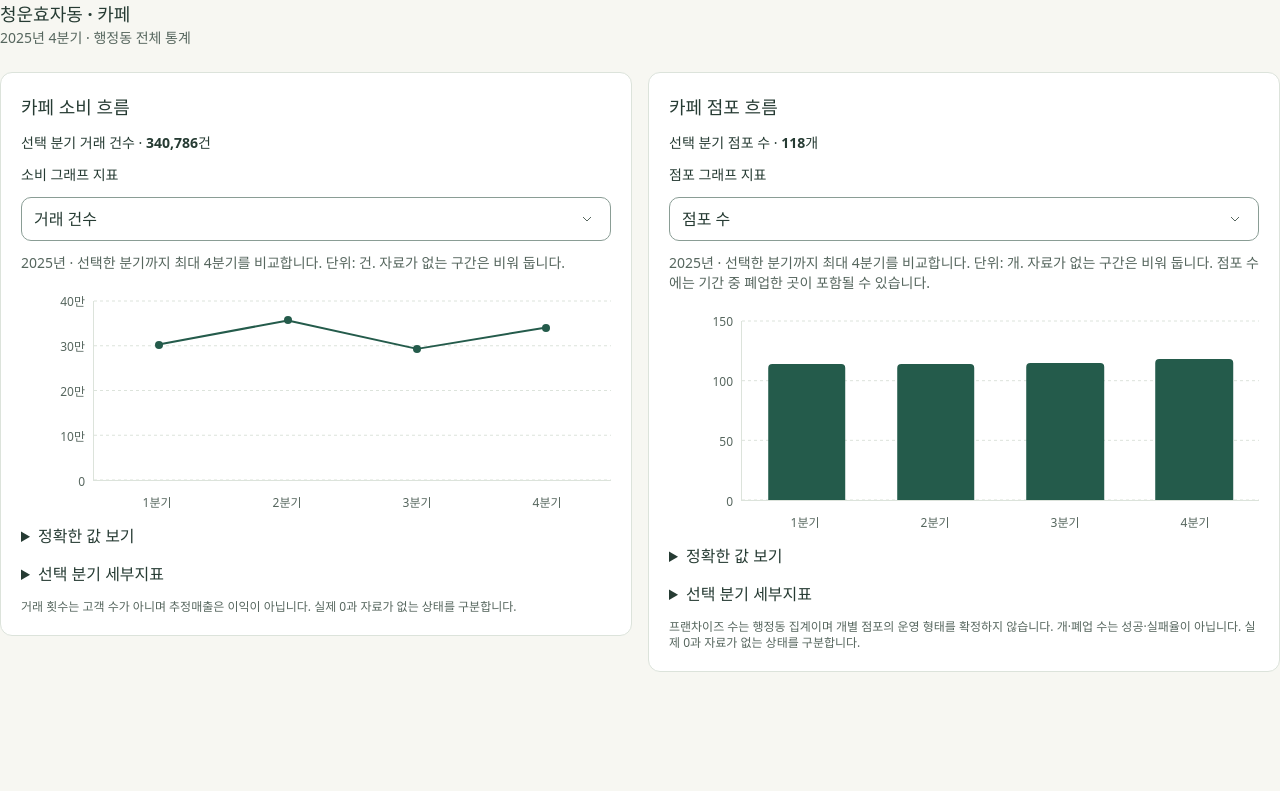
shows real value axes and changes units while preserving exact table values
Expected: the element named "세로축 눈금, 단위 건" is shown, x1=60 y1=292 x2=85 y2=489
Select "추정매출" in the dropdown labelled "소비 그래프 지표": (316, 219) x1=21 y1=197 x2=611 y2=241
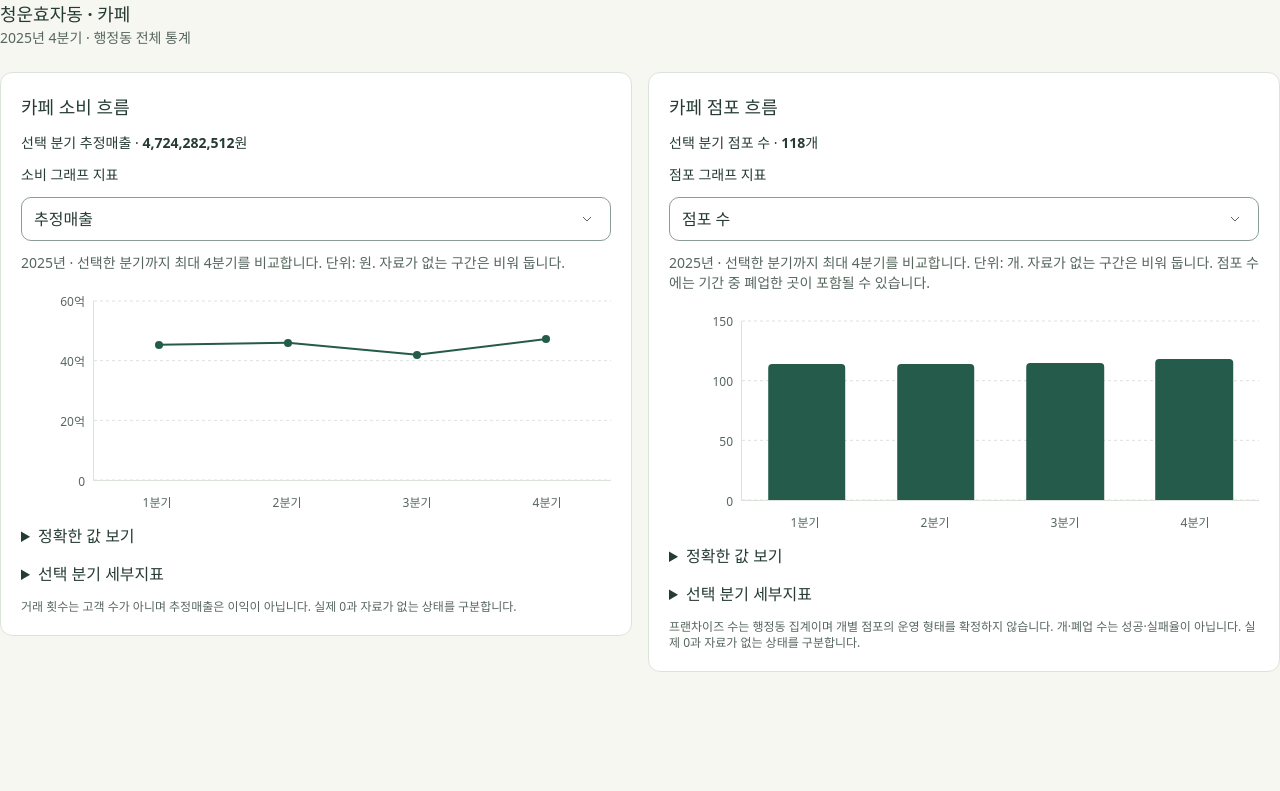
Result: the element named "세로축 눈금, 단위 원" is shown at x1=60 y1=292 x2=85 y2=489
Click the heading "정확한 값 보기" below "20억": click(86, 536) x1=38 y1=525 x2=134 y2=547
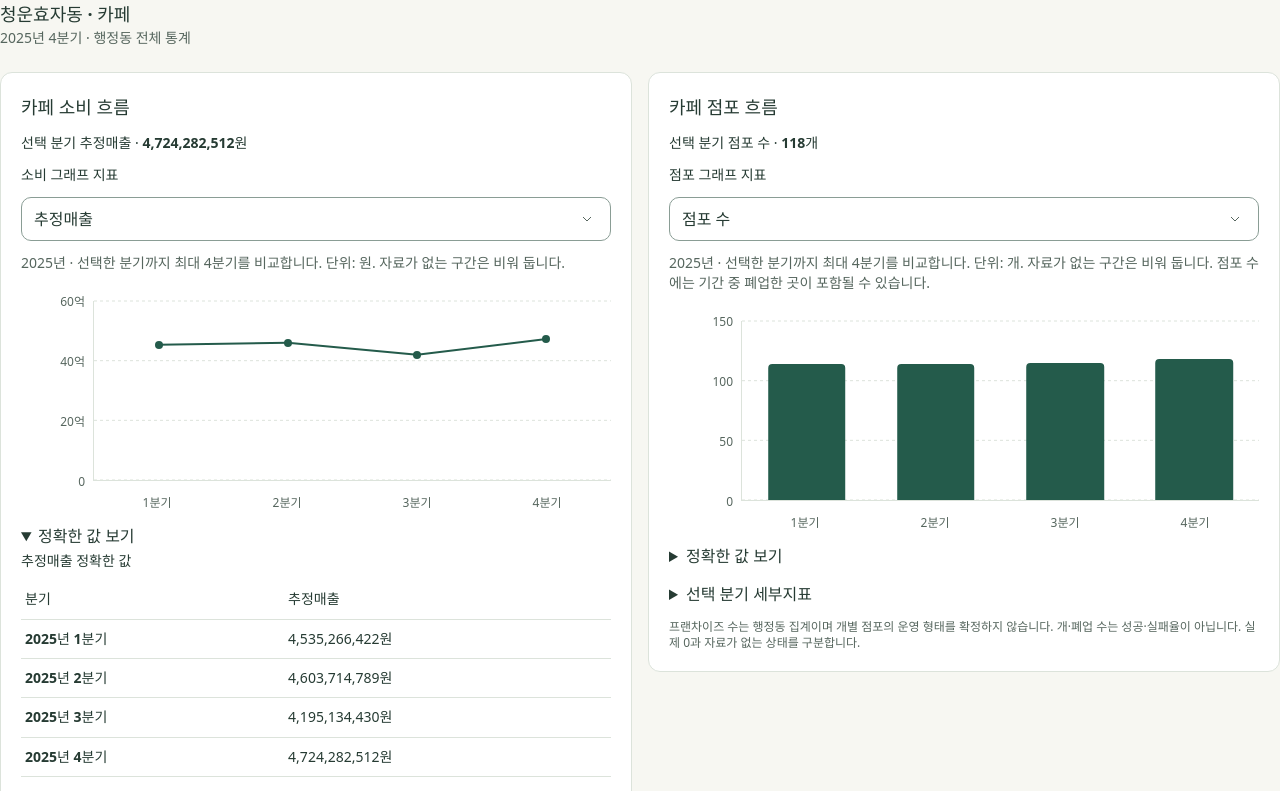
Result: the table "추정매출 정확한 값" shows "4,535,266,422원" at x1=288 y1=629 x2=392 y2=648
